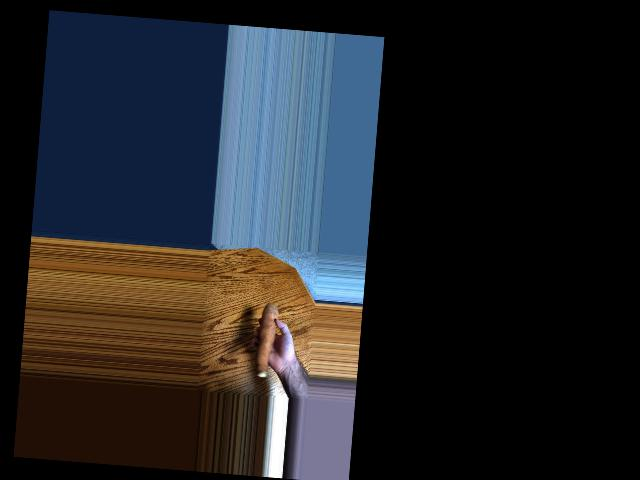sweet_potato: (250, 301, 275, 372)
